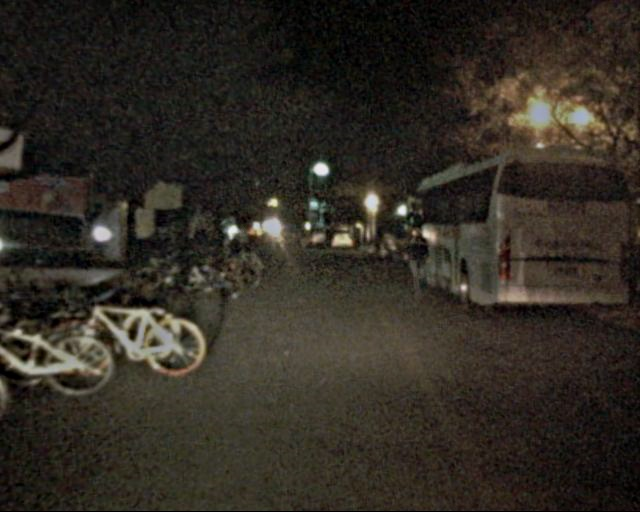person: (402, 221, 436, 304), (233, 217, 253, 264), (326, 227, 339, 258)
